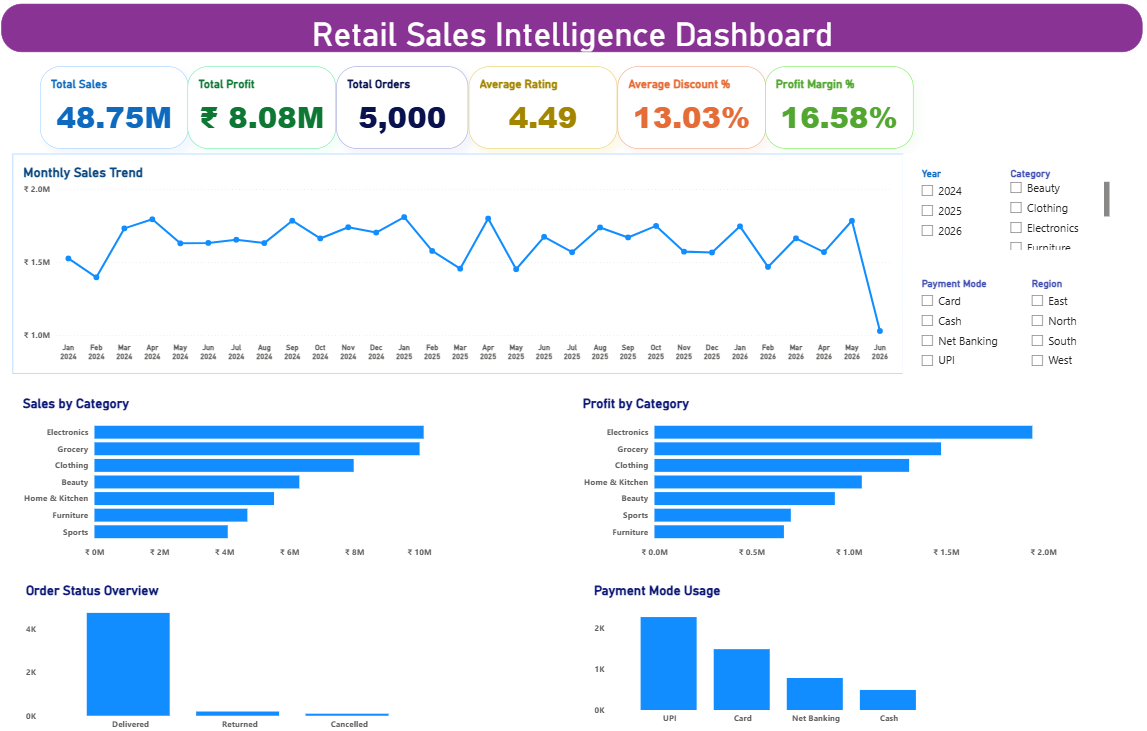

Layout of this report page (visuals, bound fields, positions):
{"tool":"powerbi","page":{"name":"Executive Overveiw","canvas":[1920,1080],"ordinal":0},"visuals":[{"type":"card","title":"Total Sales","fields":{"Values":["Sum(Retail_Sales_Master.Sales)"]},"box":[72,96,216,120],"z":0},{"type":"card","title":"Total Profit","fields":{"Values":["📊 Measures.Total Profit"]},"box":[288,96,216,120],"z":1000},{"type":"card","title":"Total Orders","fields":{"Values":["📊 Measures.Total Orders"]},"box":[504,96,192,120],"z":2000},{"type":"card","title":"Average Rating","fields":{"Values":["📊 Measures.Average Rating"]},"box":[696,96,216,120],"z":3000},{"type":"card","title":"Average Discount %","fields":{"Values":["📊 Measures.Average Discount %"]},"box":[912,96,216,120],"z":4000},{"type":"card","title":"Profit Margin %","fields":{"Values":["📊 Measures.Profit Margin %"]},"box":[1128,96,216,120],"z":5000},{"type":"textbox","title":"Retail Sales Intelligence Dashboard","box":[16,6,1660,70],"z":6000},{"type":"lineChart","title":"Monthly Sales Trend","fields":{"Category":["Retail_Sales_Master.Month Year"],"Y":["📊 Measures.Total Sales"]},"box":[32,224,1296,320],"z":7000},{"type":"slicer","fields":{"Values":["Retail_Sales_Master.Region"]},"box":[1488,384,192,176],"z":8000},{"type":"slicer","fields":{"Values":["Retail_Sales_Master.Category"]},"box":[1456,224,192,160],"z":9000},{"type":"slicer","fields":{"Values":["Retail_Sales_Master.Payment_Mode"]},"box":[1328,384,160,176],"z":10000},{"type":"slicer","fields":{"Values":["Retail_Sales_Master.Year"]},"box":[1328,224,128,160],"z":11000},{"type":"barChart","title":"Sales by Category","fields":{"Category":["Retail_Sales_Master.Category"],"Y":["Sum(Retail_Sales_Master.Sales)"]},"box":[32,560,672,272],"z":12000},{"type":"barChart","title":"Profit by Category","fields":{"Category":["Retail_Sales_Master.Category"],"Y":["Sum(Retail_Sales_Master.Profit)"]},"box":[848,560,720,272],"z":13000},{"type":"columnChart","title":"Payment Mode Usage","fields":{"Category":["Retail_Sales_Master.Payment_Mode"],"Y":["CountNonNull(Retail_Sales_Master.Customer_ID)"]},"box":[864,832,544,240],"z":14000},{"type":"columnChart","title":"Order Status Overview","fields":{"Category":["Retail_Sales_Master.Order_Status"],"Y":["CountNonNull(Retail_Sales_Master.Customer_ID)"]},"box":[48,848,608,224],"z":15000}]}

Visuals, with their boxes on the page's 1920x1080 design canvas (x1, y1, x2, y2). These are canvas units, not pixel positions in the 1147x731 screenshot, which may show the page scaled, cropped or inside an application window:
"Total Sales" card: bbox=(72, 96, 288, 216)
"Total Profit" card: bbox=(288, 96, 504, 216)
"Total Orders" card: bbox=(504, 96, 696, 216)
"Average Rating" card: bbox=(696, 96, 912, 216)
"Average Discount %" card: bbox=(912, 96, 1128, 216)
"Profit Margin %" card: bbox=(1128, 96, 1344, 216)
"Retail Sales Intelligence Dashboard" textbox: bbox=(16, 6, 1676, 76)
"Monthly Sales Trend" lineChart: bbox=(32, 224, 1328, 544)
slicer - Retail_Sales_Master.Region: bbox=(1488, 384, 1680, 560)
slicer - Retail_Sales_Master.Category: bbox=(1456, 224, 1648, 384)
slicer - Retail_Sales_Master.Payment_Mode: bbox=(1328, 384, 1488, 560)
slicer - Retail_Sales_Master.Year: bbox=(1328, 224, 1456, 384)
"Sales by Category" barChart: bbox=(32, 560, 704, 832)
"Profit by Category" barChart: bbox=(848, 560, 1568, 832)
"Payment Mode Usage" columnChart: bbox=(864, 832, 1408, 1072)
"Order Status Overview" columnChart: bbox=(48, 848, 656, 1072)
